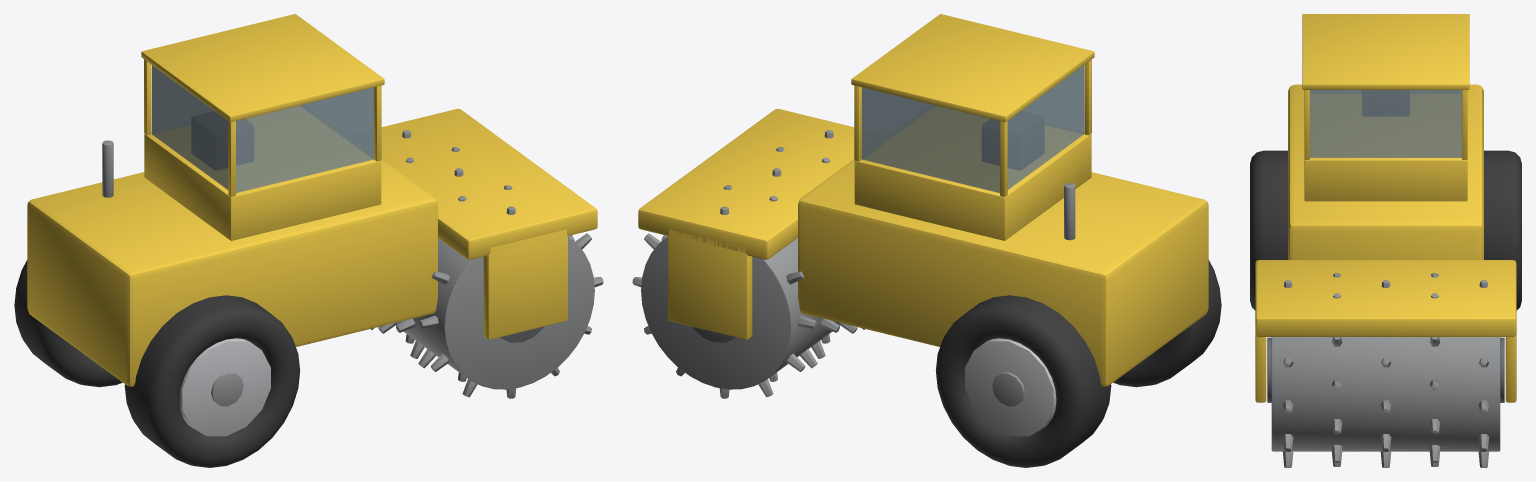
Rendered from EQP-CMP-001_anim.glb.
The picture shows the model from 3 angles, left to right: view 1: azimuth 30°, elevation 25°; view 2: azimuth 150°, elevation 25°; view 3: azimuth 270°, elevation 25°; orthographic projection. The views are drawn at different scales.
Visible parts, largest first — view 1: EQP-CMP-001_anim3, EQP-CMP-001_anim0, EQP-CMP-001_anim2, EQP-CMP-001_anim1; view 2: EQP-CMP-001_anim3, EQP-CMP-001_anim1, EQP-CMP-001_anim2, EQP-CMP-001_anim0; view 3: EQP-CMP-001_anim3, EQP-CMP-001_anim2, EQP-CMP-001_anim0, EQP-CMP-001_anim1.
Part boxes in pixels (x1=…): EQP-CMP-001_anim3: x1=27, y1=14, x2=597, y2=386; EQP-CMP-001_anim0: x1=124, y1=295, x2=300, y2=467; EQP-CMP-001_anim2: x1=370, y1=130, x2=603, y2=398; EQP-CMP-001_anim1: x1=14, y1=260, x2=122, y2=387; EQP-CMP-001_anim3: x1=638, y1=14, x2=1208, y2=386; EQP-CMP-001_anim1: x1=935, y1=295, x2=1111, y2=467; EQP-CMP-001_anim2: x1=632, y1=130, x2=865, y2=398; EQP-CMP-001_anim0: x1=1113, y1=260, x2=1221, y2=387; EQP-CMP-001_anim3: x1=1255, y1=14, x2=1516, y2=402; EQP-CMP-001_anim2: x1=1267, y1=273, x2=1504, y2=467; EQP-CMP-001_anim0: x1=1250, y1=150, x2=1287, y2=310; EQP-CMP-001_anim1: x1=1484, y1=150, x2=1521, y2=310.
Size of the model in its own units: 4.7 by 3.25 by 2.5.
